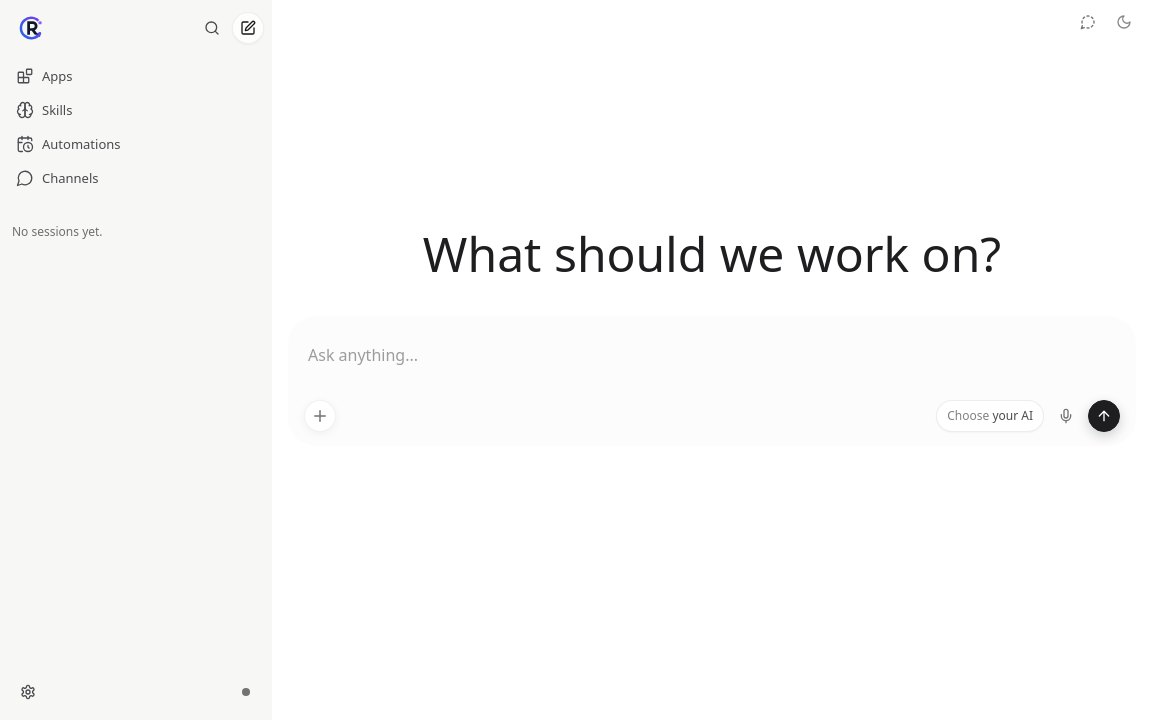
App layout › opens Channels below Automations and supports its keyboard shortcut
This screenshot has width=1152, height=720.
Click the button "Channels" at (136, 178), box 8,162 -> 264,194
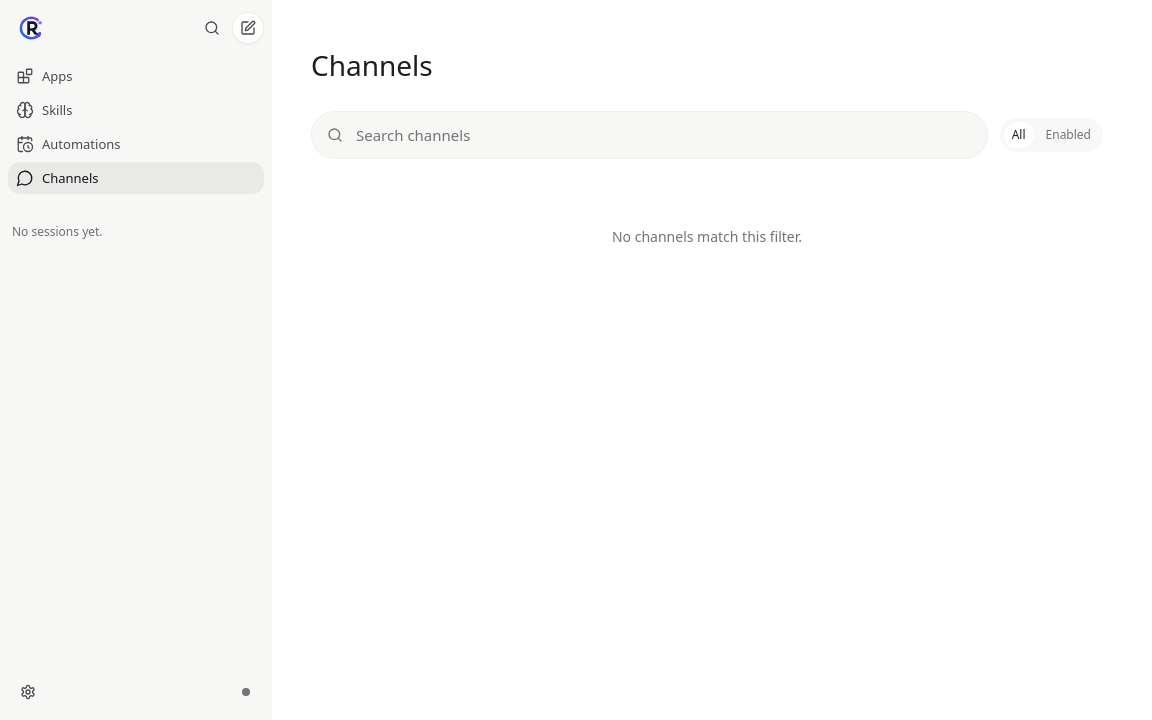
Expected: the heading "Channels" is shown, 311,46 -> 433,84
Click the button named "New topic" at (248, 28), box 232,12 -> 264,44
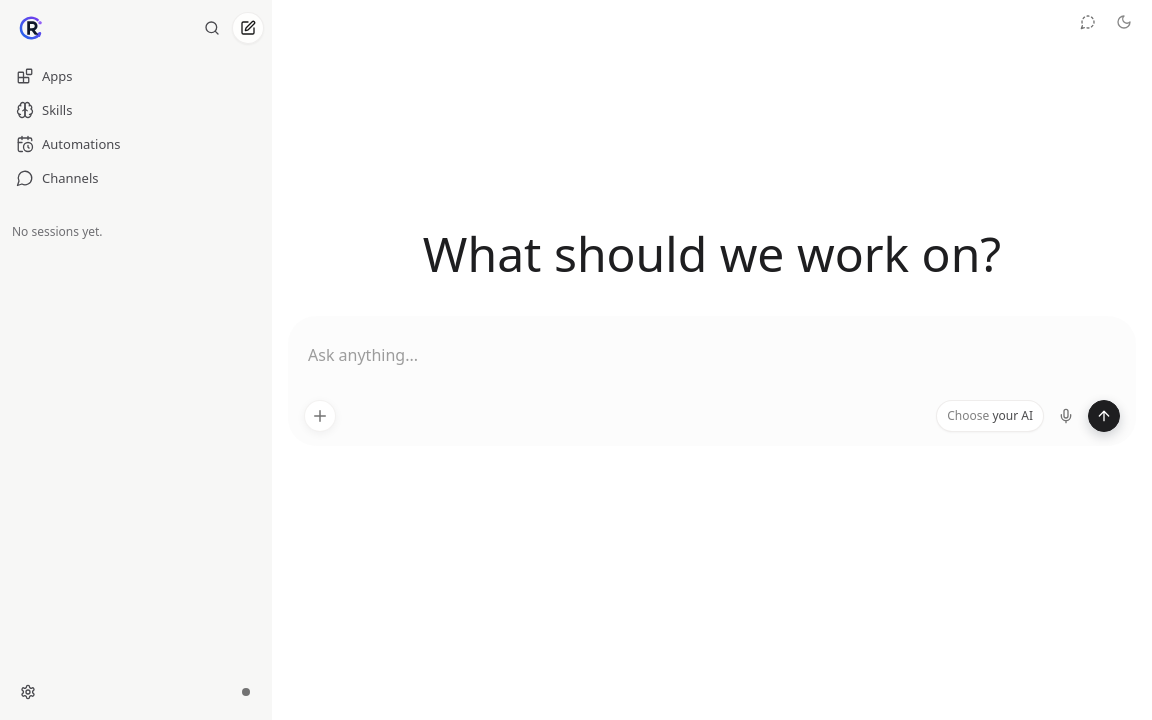
Press $
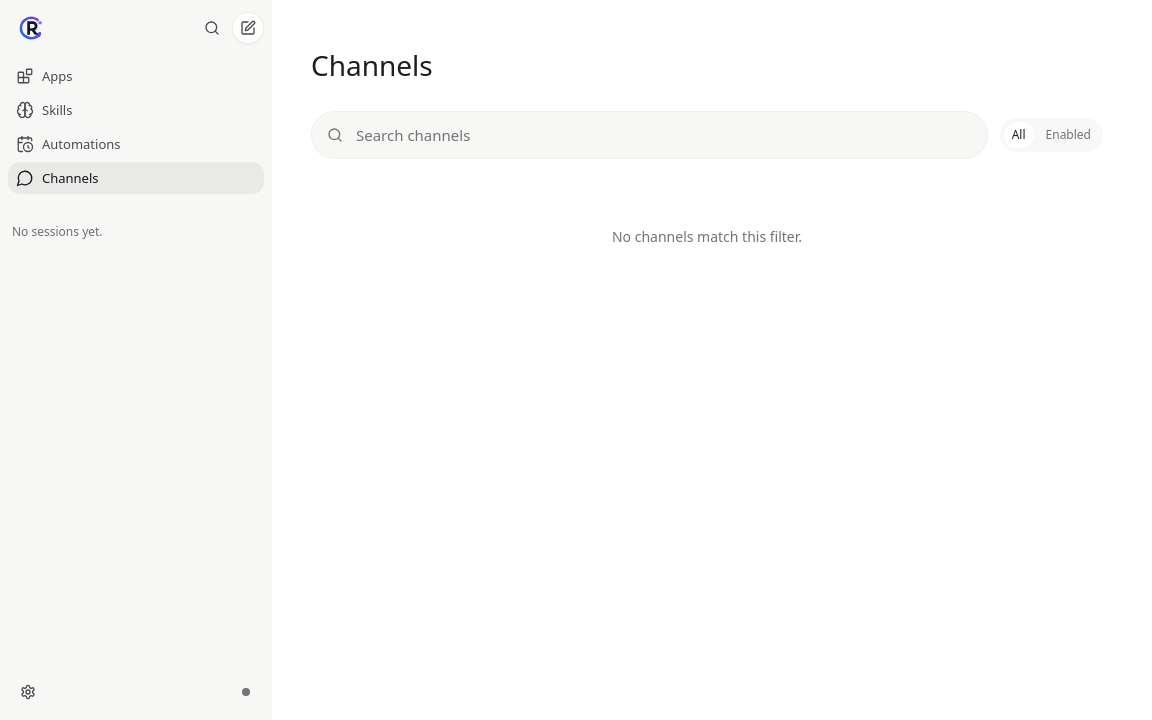
Expected: the heading "Channels" is shown, 311,46 -> 433,84
